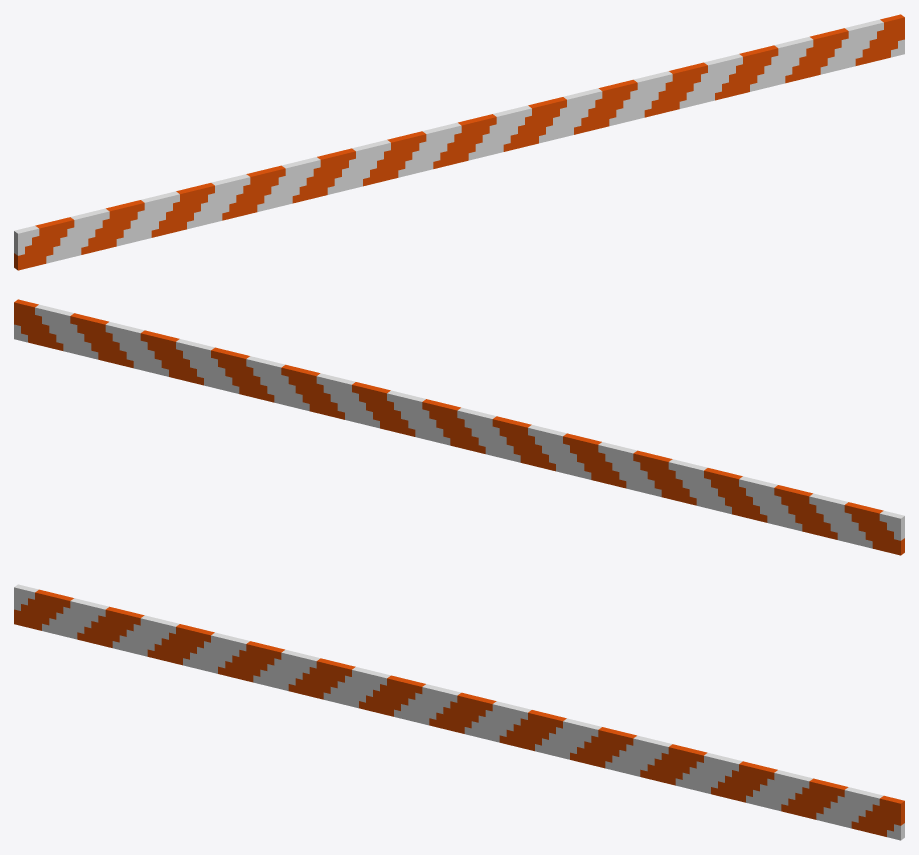
The model's file is NoBreakPlank.obj.
3 views of the same model, one above another, from view 1: azimuth 30°, elevation 25°; view 2: azimuth 150°, elevation 25°; view 3: azimuth 330°, elevation 25° (orthographic).
Bounding box in the file's own units: 12.6 × 0.5 × 0.1.
1 material, 1 textured.
